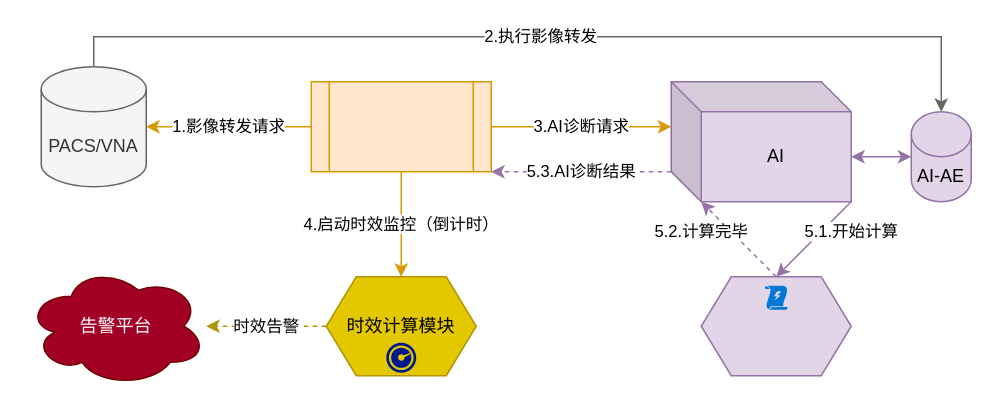
Image size: 998x413. Some labels were removed from this diagram. Here are the shapes that lost their labels. From the top down, the box of each, then its label:
(310, 80, 491, 172): 交换中心
(700, 275, 851, 376): AI诊断算法
